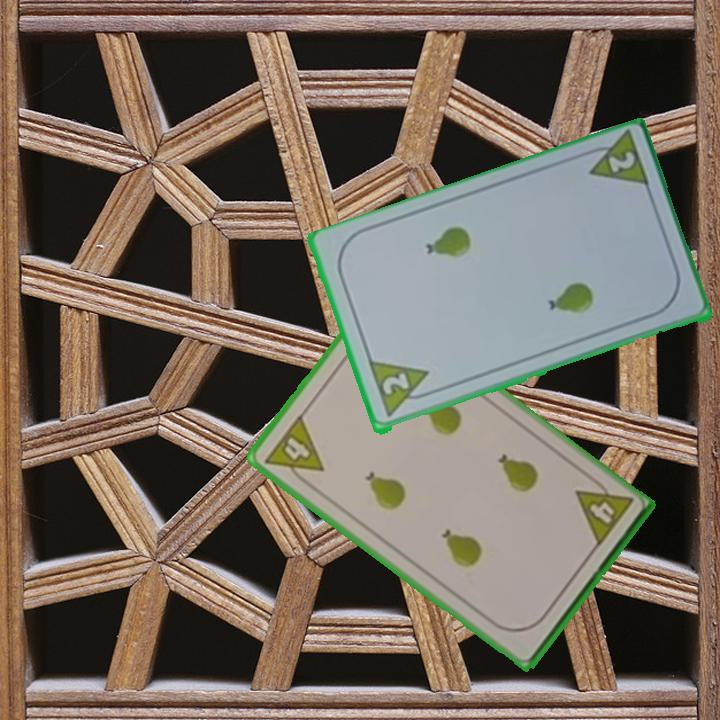2p: (378, 369, 412, 399), (604, 148, 638, 177)
4p: (260, 410, 327, 491), (571, 472, 636, 550)
